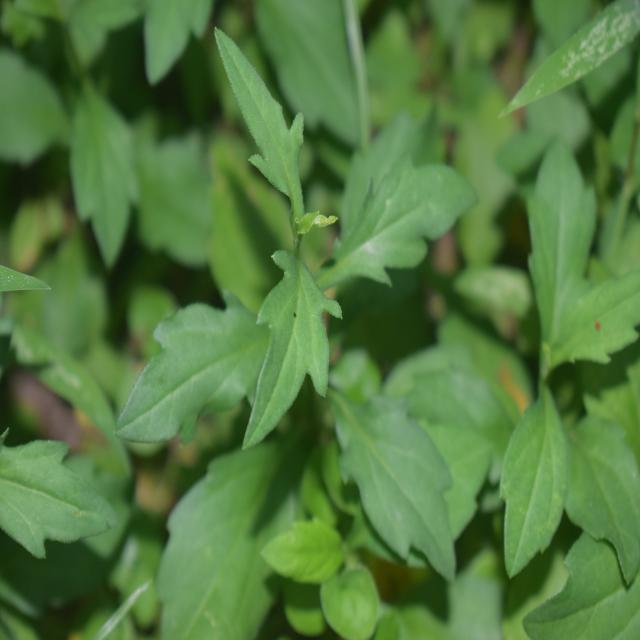Indian aster: (136, 97, 462, 578)
